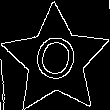O_S: (29, 30, 82, 90)
